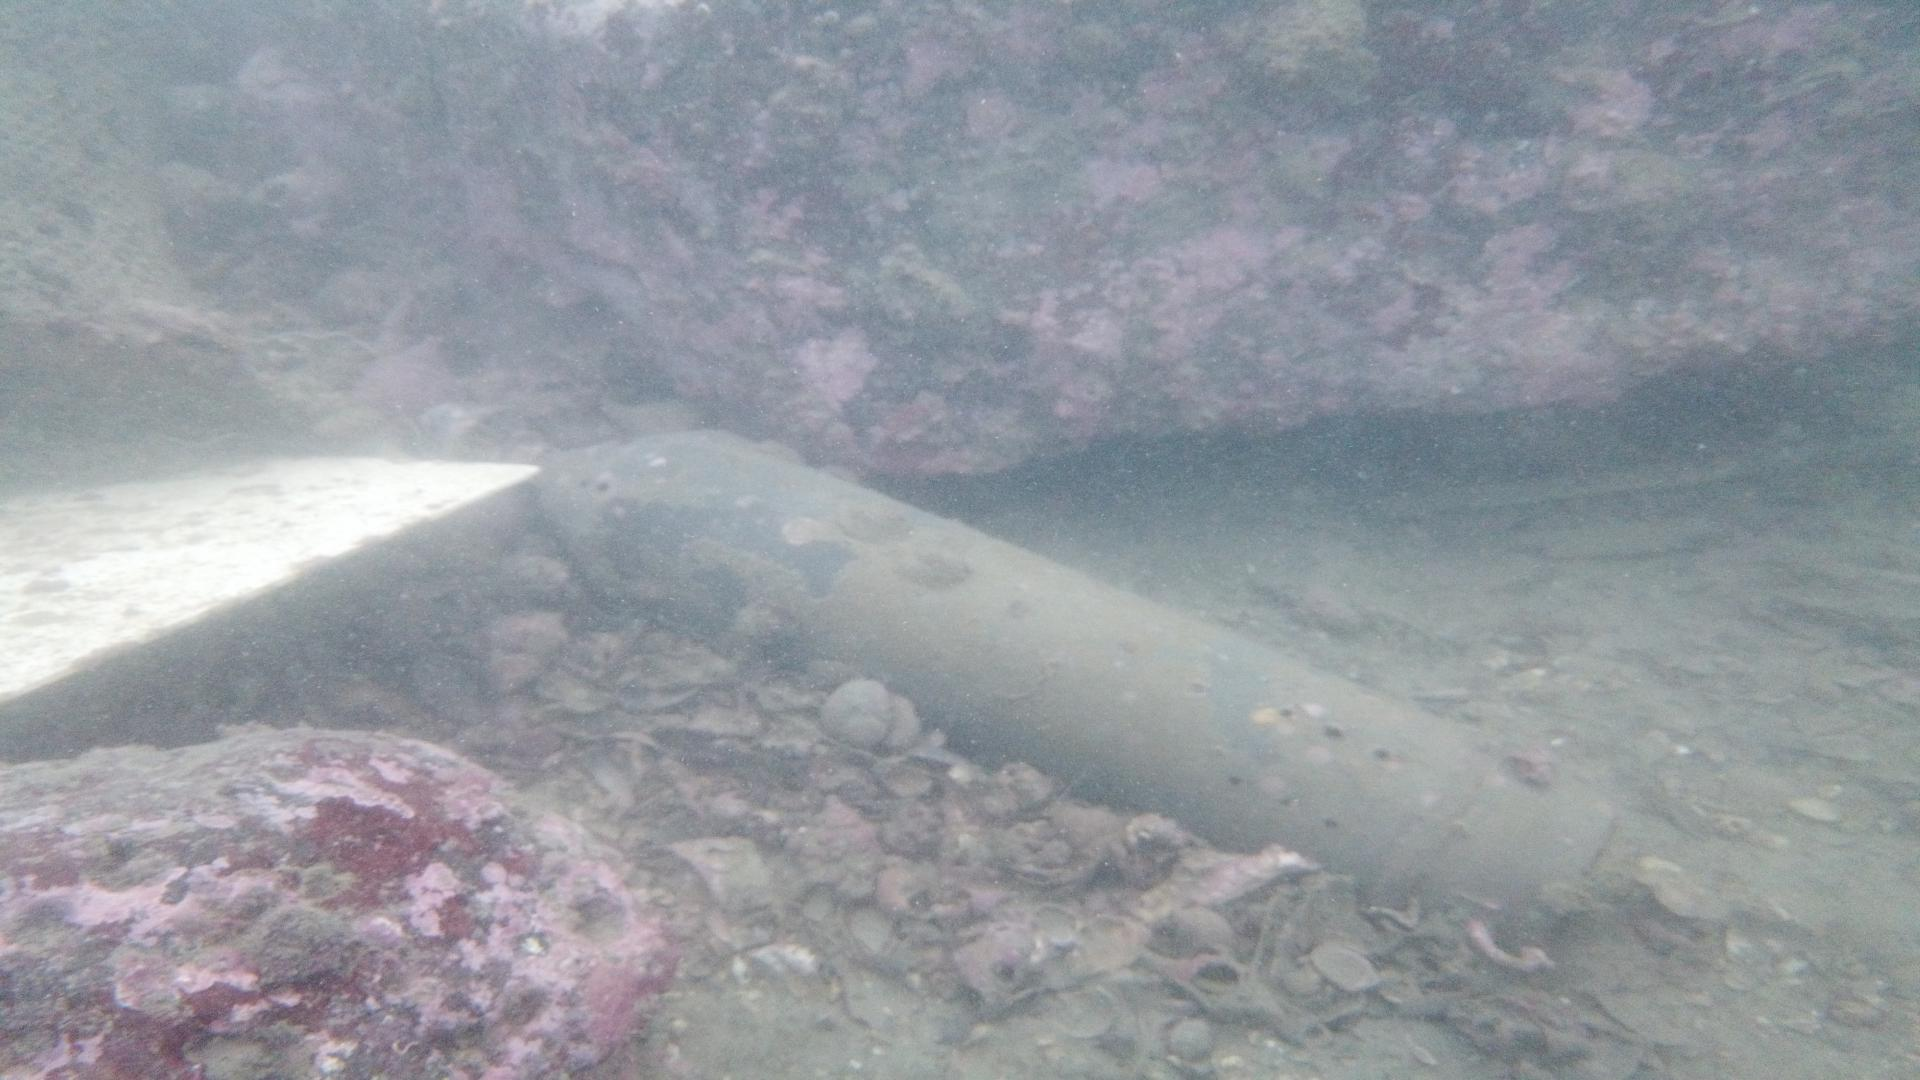eel fish trap: (425, 394, 1619, 965)
